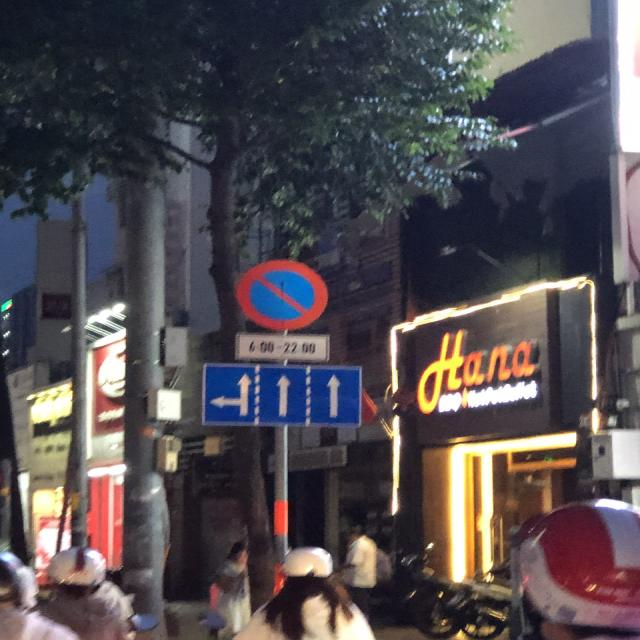Bien bao cam do xe: (225, 253, 334, 331)
